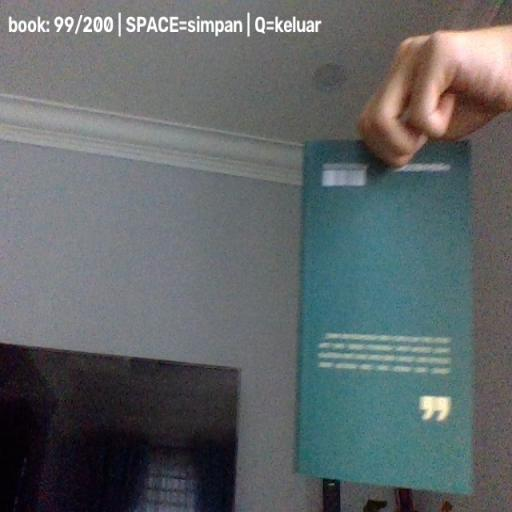Book: (294, 138, 476, 497)
